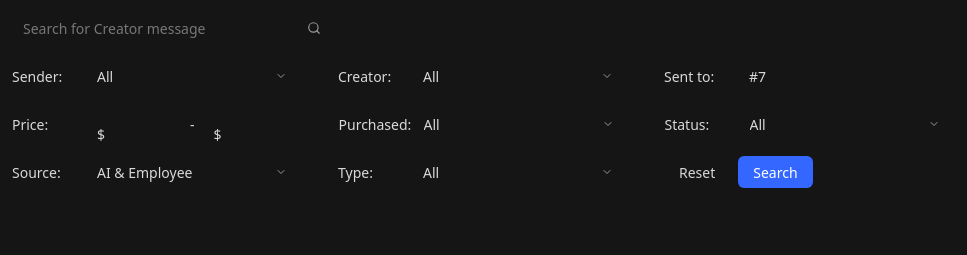
Scenario: MessageDashboardForm › Reset clears the form and applies the cleared form
Type "hello" into the field labelled "Search for Creator message" at [172, 28], box [12,12,332,44]
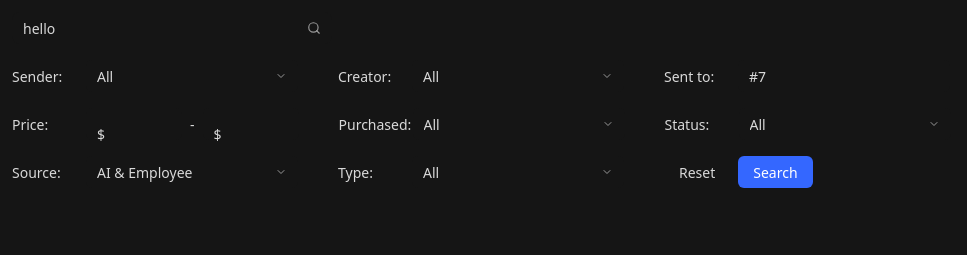
Click the dropdown named "Purchased" at [518, 124], box [412,108,624,140]
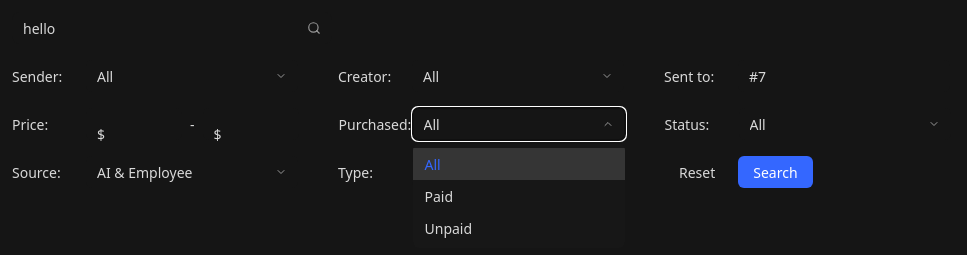
Click the option "Unpaid" at [448, 228], box [424,218,472,238]
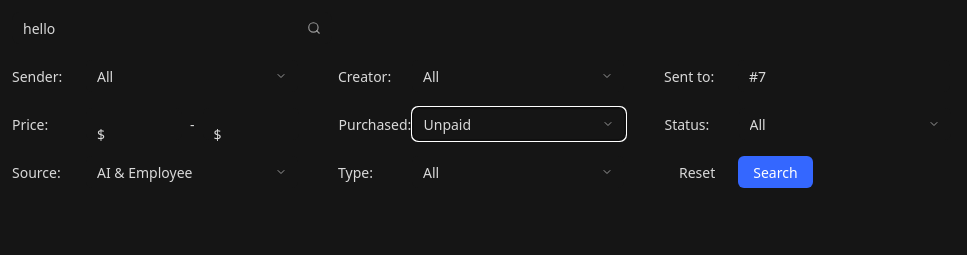
Click the button "Reset" at [697, 172], box [664,156,730,188]
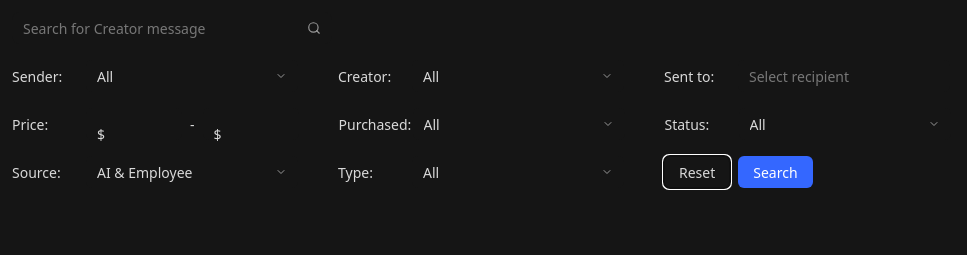
expect the field labelled "Search for Creator message" is empty: met, box [12,12,332,44]
expect the field named "Sent to" is empty: met, box [738,60,950,92]
expect the dropdown named "Purchased" reads "All": met, box [412,108,624,140]
